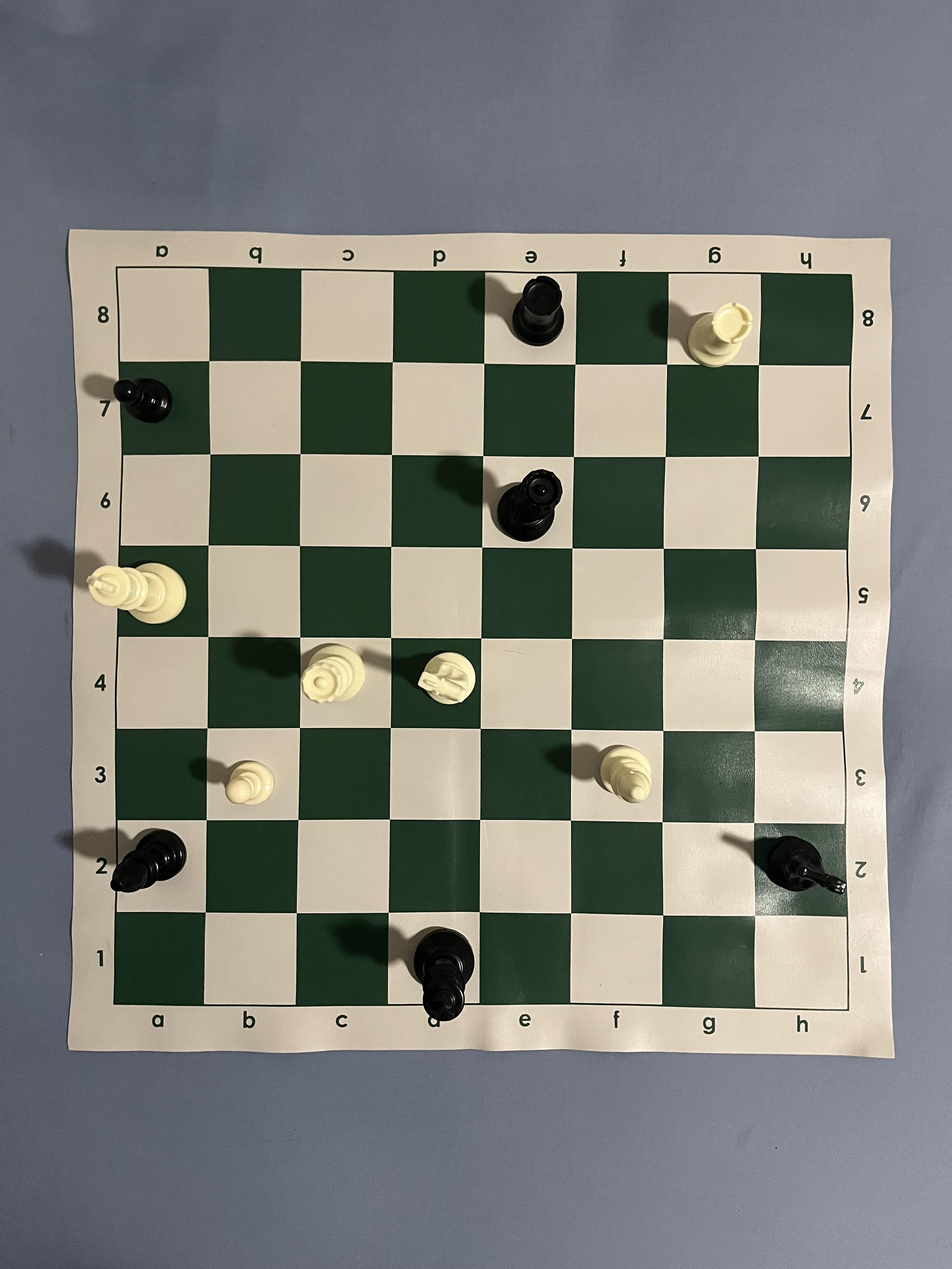black_bishop: (109, 828, 188, 895)
black_king: (412, 926, 476, 1023)
black_knight: (764, 835, 847, 895)
black_pawn: (112, 377, 173, 424)
black_queen: (495, 467, 564, 543)
black_rook: (511, 275, 566, 347)
white_bishop: (598, 743, 654, 805)
white_king: (85, 562, 188, 625)
white_knight: (418, 652, 477, 706)
white_pawn: (224, 759, 276, 807)
white_queen: (299, 643, 367, 706)
white_rook: (686, 301, 754, 369)
